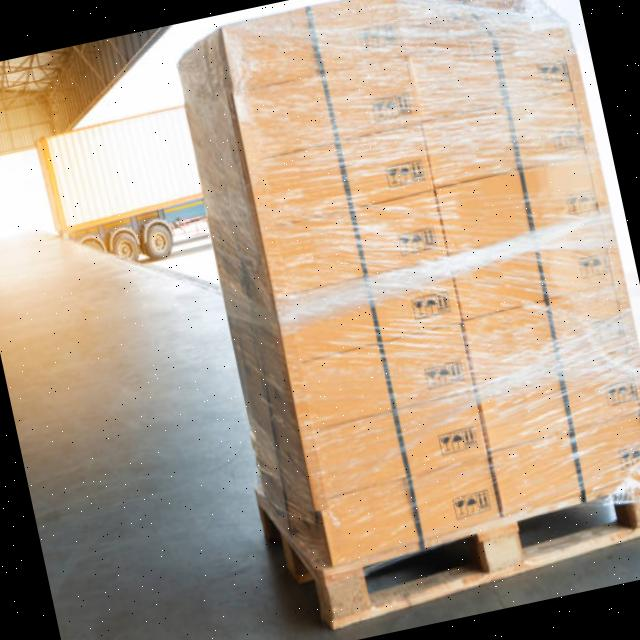Wooden-Pallets: (251, 474, 640, 633)
